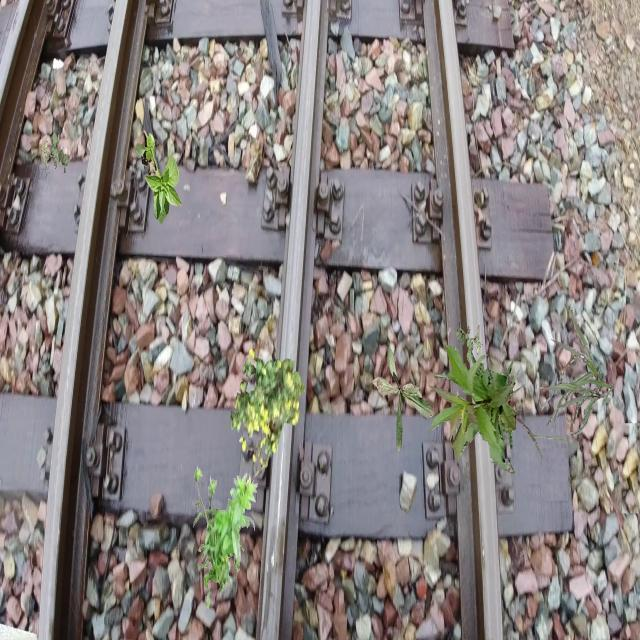Plant: (424, 352, 568, 472), (428, 344, 516, 474), (231, 348, 306, 488), (193, 465, 258, 608), (541, 310, 614, 434), (372, 340, 436, 452), (135, 130, 183, 225), (42, 132, 70, 173), (455, 323, 482, 364)
